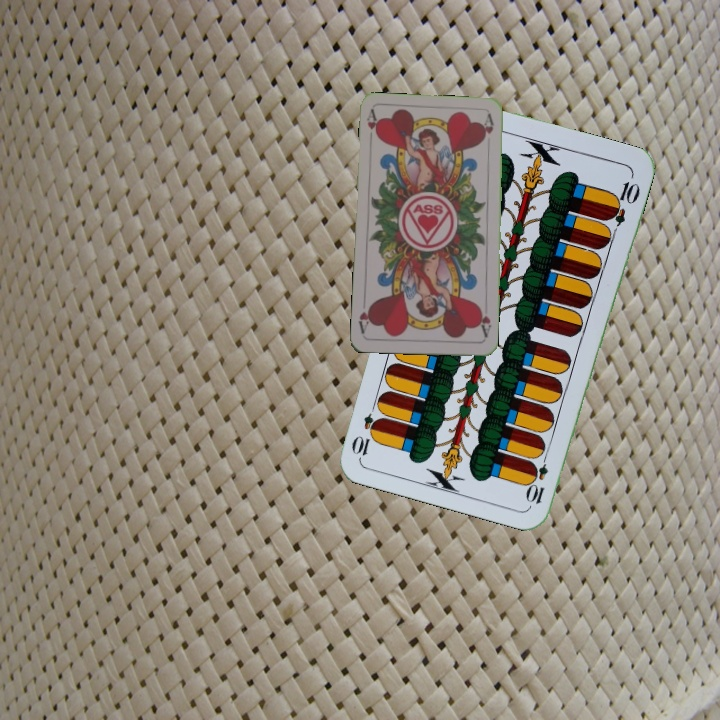E10: (525, 447, 551, 507)
HA: (363, 107, 382, 148), (474, 302, 494, 340)
